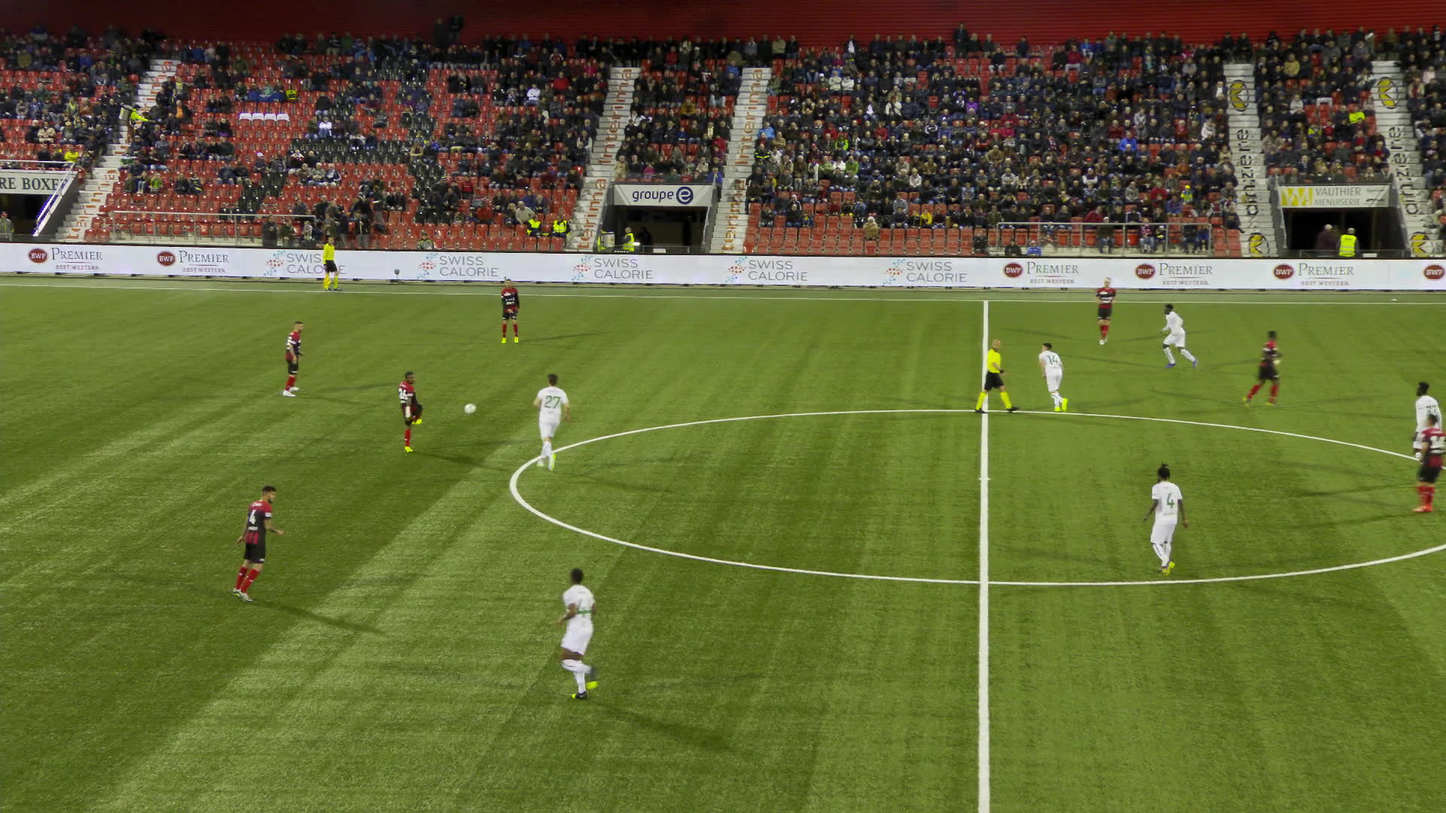ball: (463, 403, 477, 413)
player: (230, 485, 283, 602), (556, 567, 599, 701), (1142, 461, 1189, 576), (532, 373, 571, 471), (1411, 413, 1445, 513), (1241, 329, 1283, 408), (1158, 303, 1197, 369), (1411, 380, 1442, 456), (397, 369, 424, 452), (1038, 342, 1068, 413), (281, 321, 306, 397), (1094, 277, 1117, 345), (499, 278, 520, 343)
referee: (973, 337, 1020, 413), (322, 236, 342, 291)
